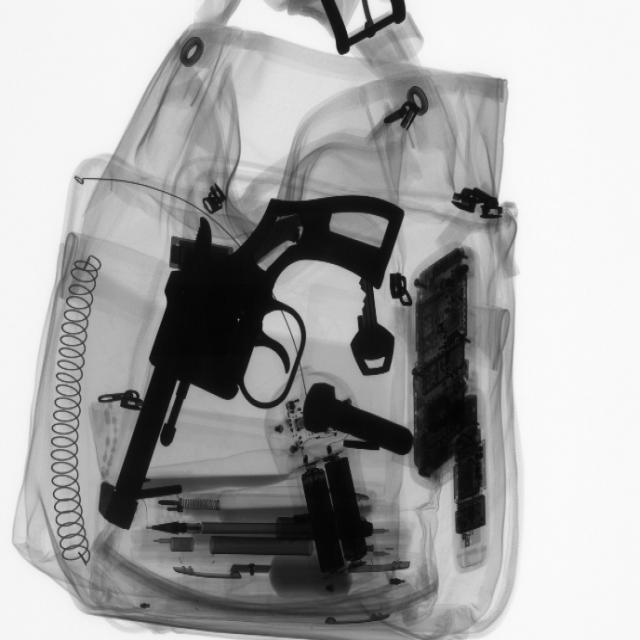GUN: (105, 189, 407, 525)
